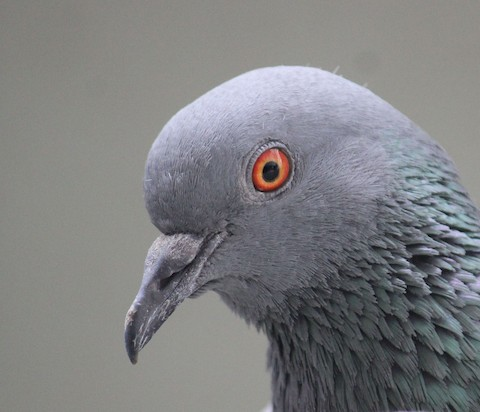pigeon: (113, 60, 480, 409)
